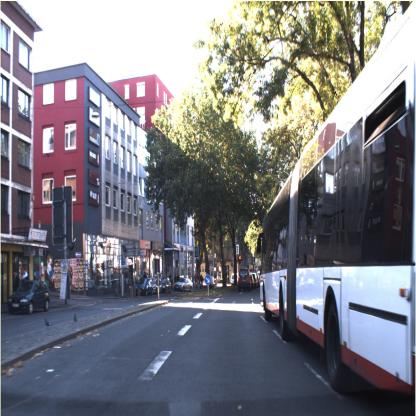keep right: (204, 274, 211, 285)
